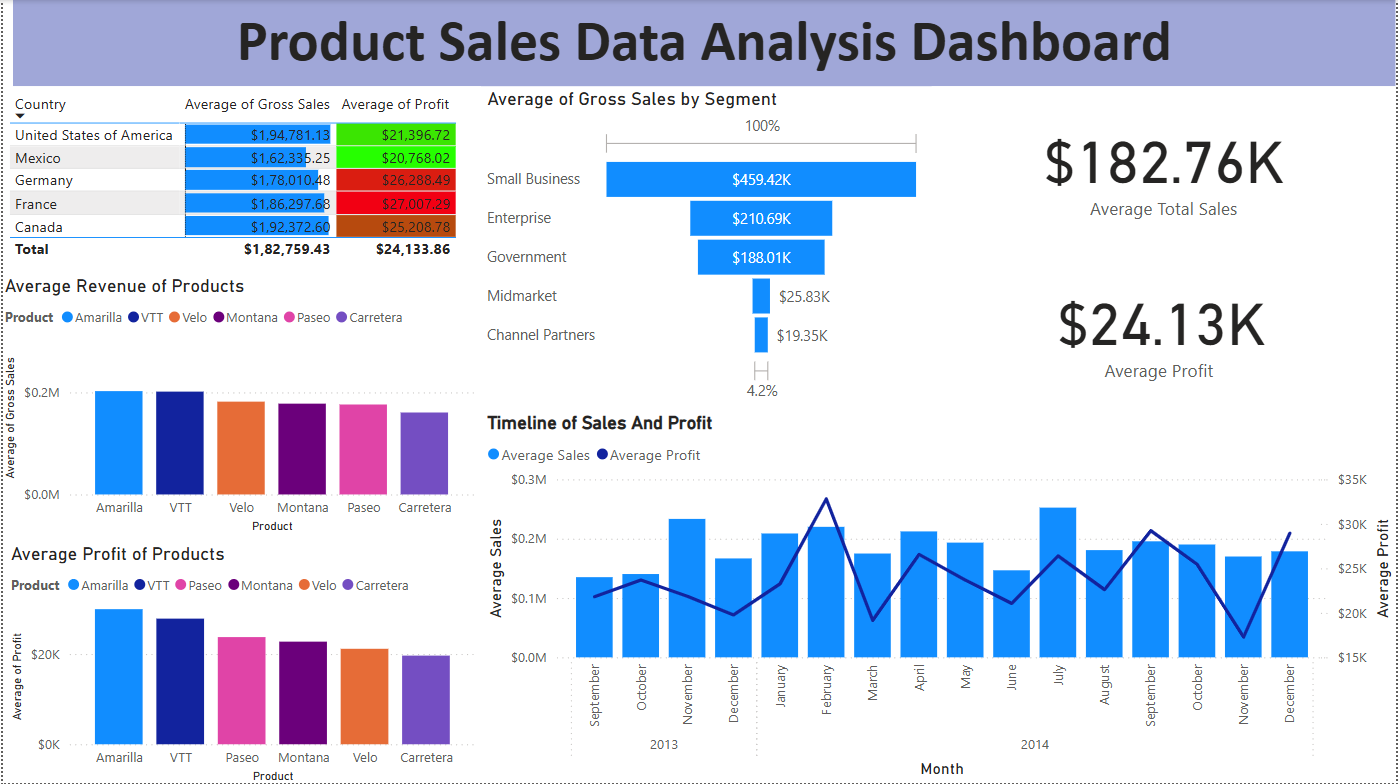

The dashboard page shown, as its layout file describes it:
{"tool":"powerbi","page":{"name":"Page 1","canvas":[1280,720],"ordinal":0},"visuals":[{"type":"columnChart","title":"Average Revenue of Products","fields":{"Category":["financials.Product"],"Y":["Avg(financials.Gross Sales)"],"Series":["financials.Product"]},"box":[-3.5,252.3,441.4,241.7],"z":0,"group":"g1"},{"type":"textbox","box":[9.6,0,1270.7,79.6],"z":0},{"type":"columnChart","title":"Average Profit of Products","fields":{"Category":["financials.Product"],"Y":["Avg(financials.Profit)"],"Series":["financials.Product"]},"box":[2.1,497.8,437.4,225.4],"z":1000,"group":"g1"},{"type":"group","id":"g1","title":"Group 1","box":[-3.5,252.3,443,470.9],"z":1000},{"type":"tableEx","fields":{"Values":["financials.Country","Avg(financials.Gross Sales)","Avg(financials.Profit)"]},"box":[0,79.1,439.5,173.3],"z":2000},{"type":"funnel","fields":{"Category":["financials.Segment"],"Y":["Avg(financials.Gross Sales)"]},"box":[439.5,80.2,409.3,293],"z":3000},{"type":"lineStackedColumnComboChart","title":"Timeline of Sales And Profit ","fields":{"Category":["financials.Year","financials.Date.Variation.Date Hierarchy.Month"],"Y":["Avg(financials.Gross Sales)"],"Y2":["Avg(financials.Profit)"]},"box":[439.5,377.9,840.7,341.9],"z":4000},{"type":"card","fields":{"Values":["Avg(financials.Gross Sales)"]},"box":[853.5,79.1,426.7,147.7],"z":5000},{"type":"card","fields":{"Values":["Avg(financials.Profit)"]},"box":[848.8,226.7,431.4,151.2],"z":6000}]}

Visuals, with their boxes in screenshot pixels (x1, y1, x2, y2), scaled from the page's 1280x720 canvas onto the 1398x784 screenshot:
"Average Revenue of Products" columnChart: (left=0, top=275, right=478, bottom=538)
textbox: (left=10, top=0, right=1397, bottom=87)
"Average Profit of Products" columnChart: (left=2, top=542, right=480, bottom=783)
"Group 1" group: (left=0, top=275, right=480, bottom=783)
tableEx - financials.Country x Avg(financials.Gross Sales): (left=0, top=86, right=480, bottom=275)
funnel - financials.Segment x Avg(financials.Gross Sales): (left=480, top=87, right=927, bottom=406)
"Timeline of Sales And Profit " lineStackedColumnComboChart: (left=480, top=411, right=1397, bottom=783)
card - Avg(financials.Gross Sales): (left=932, top=86, right=1397, bottom=247)
card - Avg(financials.Profit): (left=927, top=247, right=1397, bottom=411)
